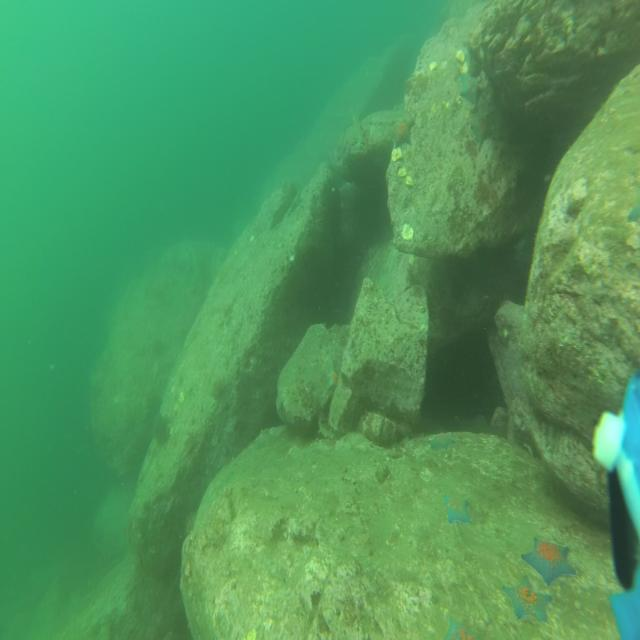starfish: (520, 536, 577, 588), (502, 572, 554, 624), (470, 102, 493, 147), (442, 491, 472, 525), (458, 68, 480, 108), (390, 116, 415, 148), (445, 615, 474, 640), (427, 431, 457, 452), (286, 190, 303, 220), (326, 367, 340, 391)
